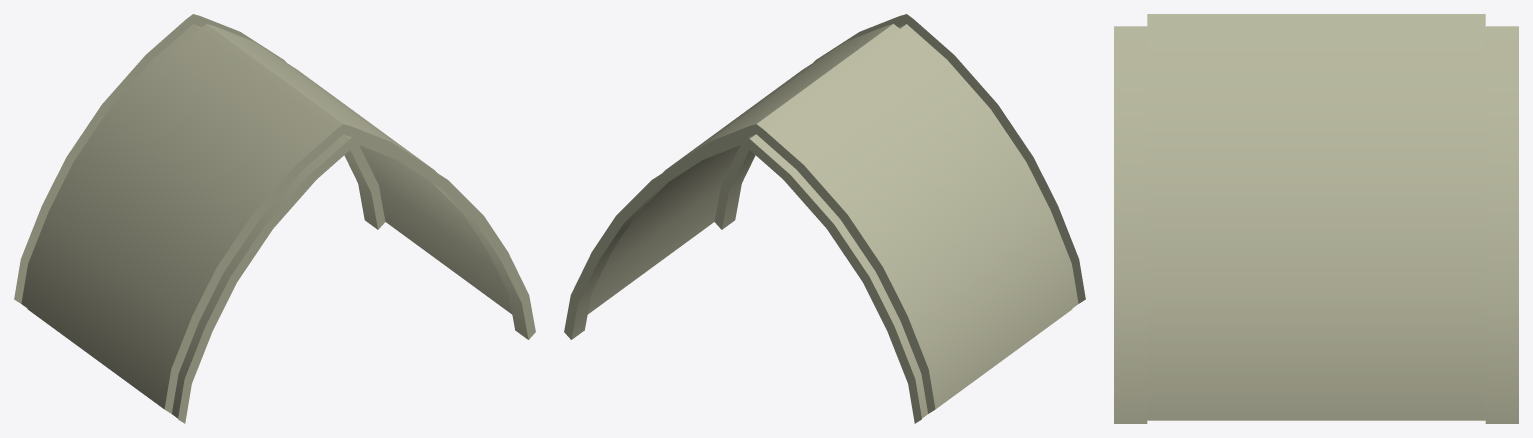
File: SM_archbase.fbx
The picture shows the model from 3 angles, left to right: view 1: azimuth 30°, elevation 25°; view 2: azimuth 150°, elevation 25°; view 3: azimuth 270°, elevation 25°; orthographic projection. The views are drawn at different scales.
Visible parts, largest first — view 1: archbase_low; view 2: archbase_low; view 3: archbase_low.
Part boxes in pixels (left/top/right/bottom): archbase_low: left=14, top=14, right=535, bottom=423; archbase_low: left=564, top=14, right=1085, bottom=423; archbase_low: left=1114, top=14, right=1518, bottom=423.
Bounding box in the file's own units: 894 × 592 × 708.
